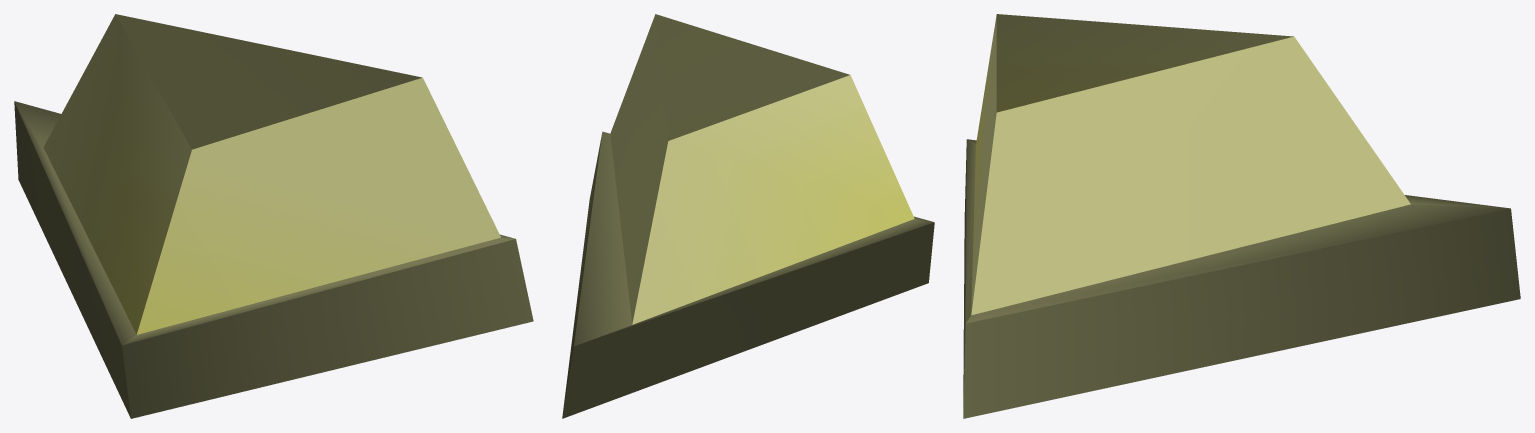
File: c_house_body_triangle_aa.fbx
The picture shows the model from 3 angles, left to right: view 1: azimuth 30°, elevation 25°; view 2: azimuth 150°, elevation 25°; view 3: azimuth 270°, elevation 25°; orthographic projection. The views are drawn at different scales.
Visible parts, largest first — view 1: c_house_body_triangle_aa; view 2: c_house_body_triangle_aa; view 3: c_house_body_triangle_aa.
Part boxes in pixels (x1,y1,x2,y2): c_house_body_triangle_aa: [14, 14, 533, 418]; c_house_body_triangle_aa: [562, 14, 934, 418]; c_house_body_triangle_aa: [963, 14, 1520, 418].
Bounding box in the file's own units: 7.06 × 4.19 × 8.17.
